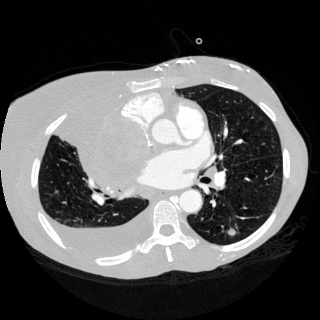nodule: (227, 228, 235, 236)
